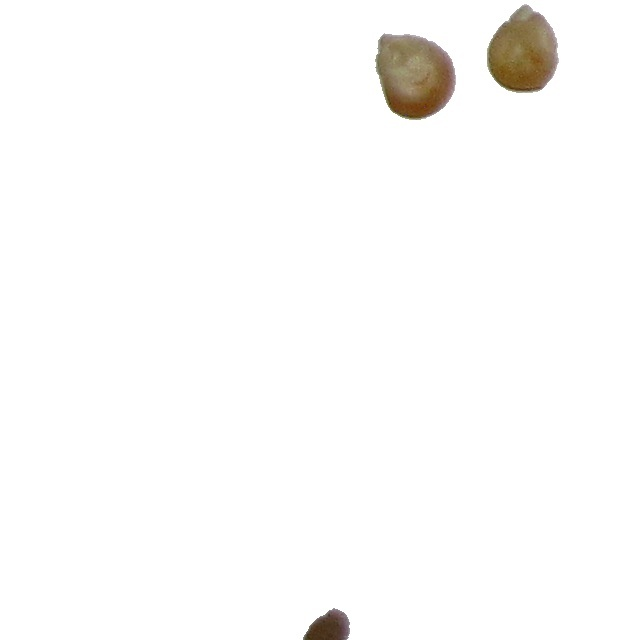buckwheat: (300, 607, 351, 640)
mais: (374, 32, 457, 121), (486, 3, 560, 94)
